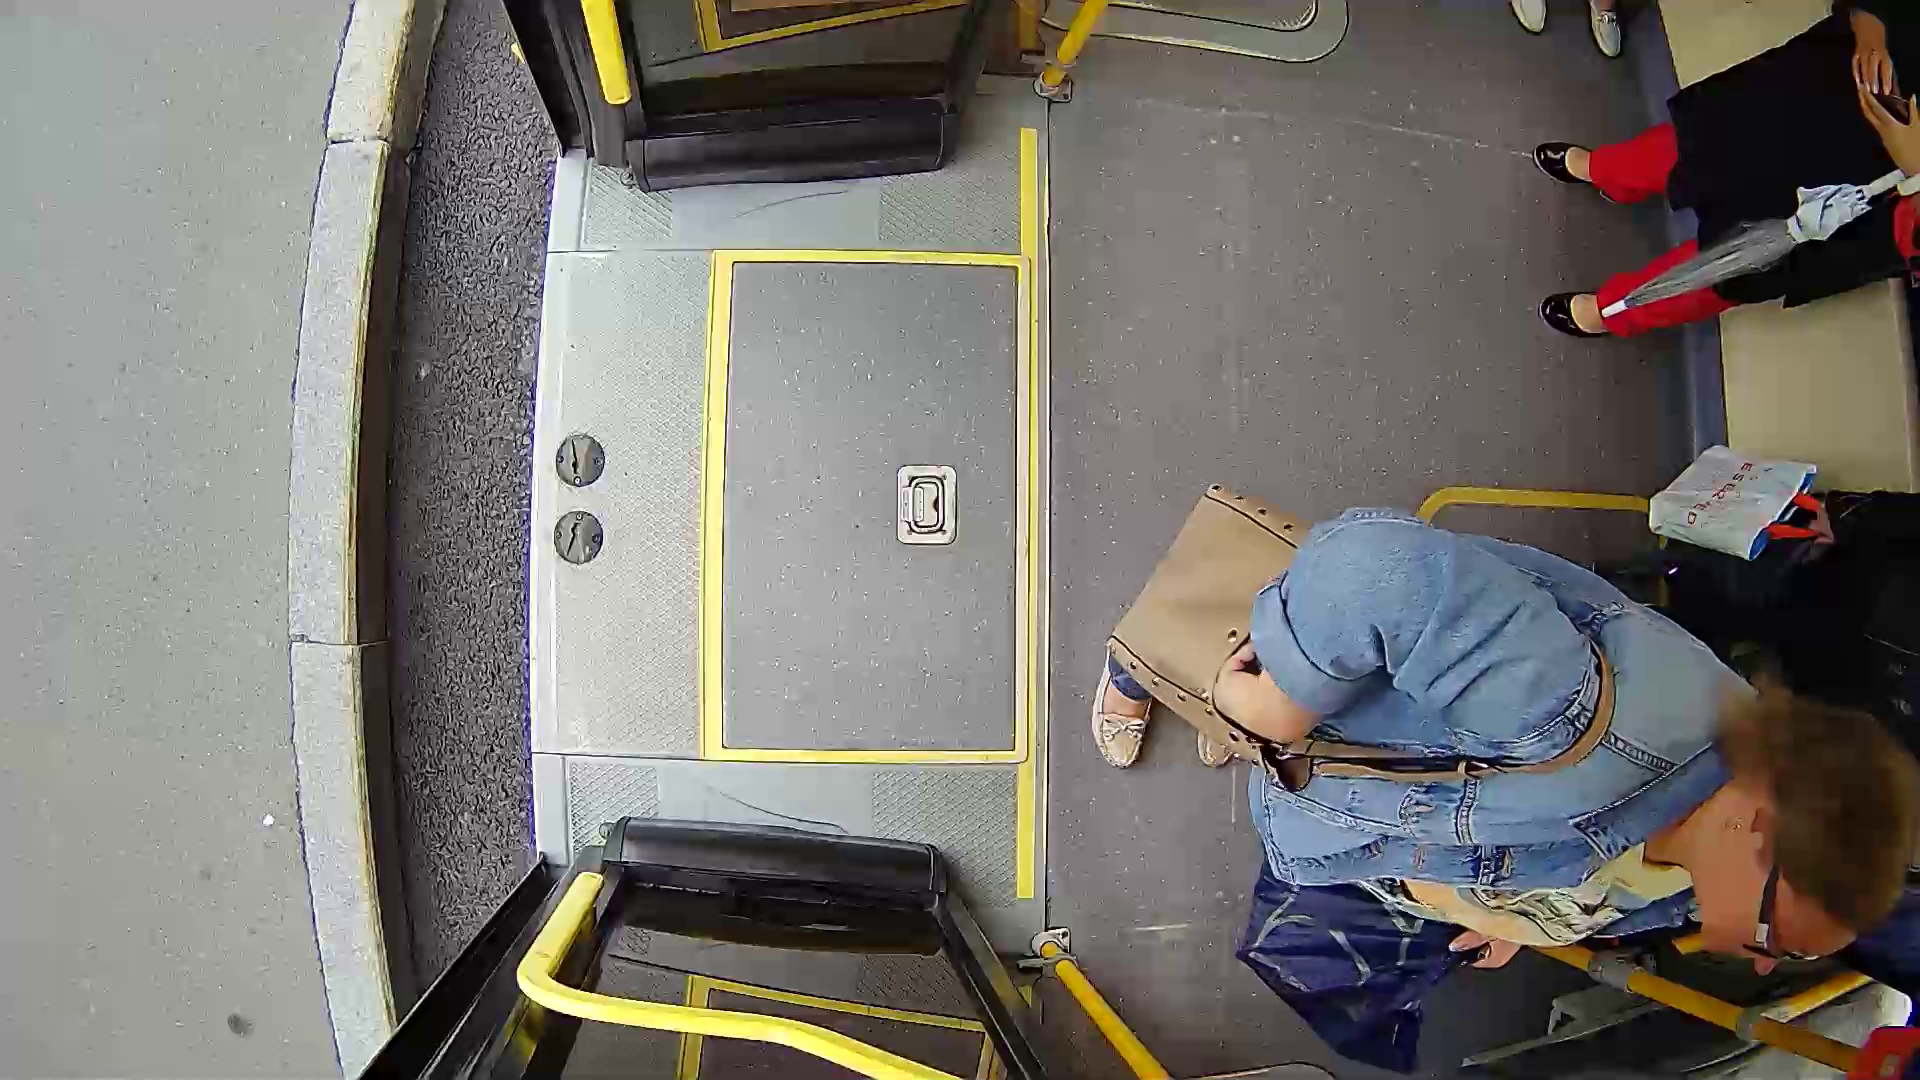person: (1147, 485, 1904, 1067)
